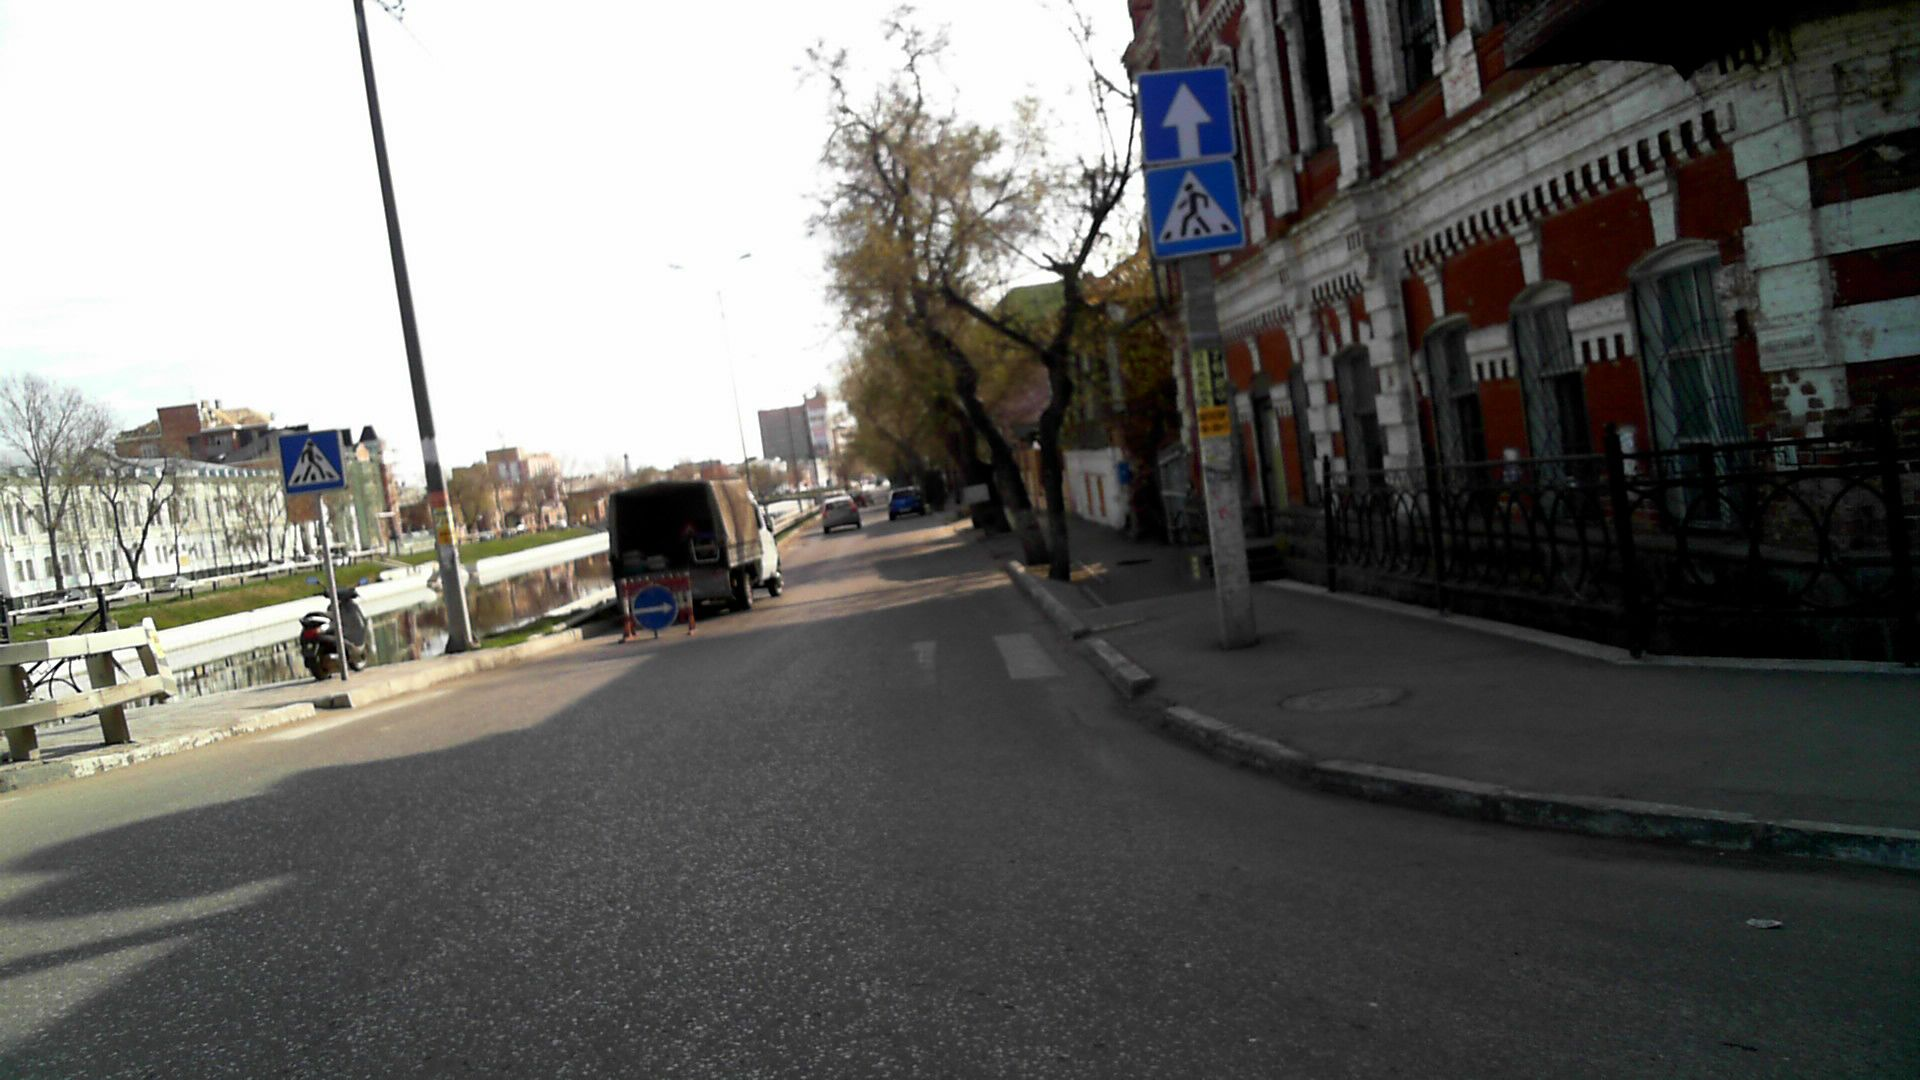Turn Right: (632, 584, 678, 632)
